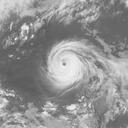cyclone: (46, 38, 94, 95)
